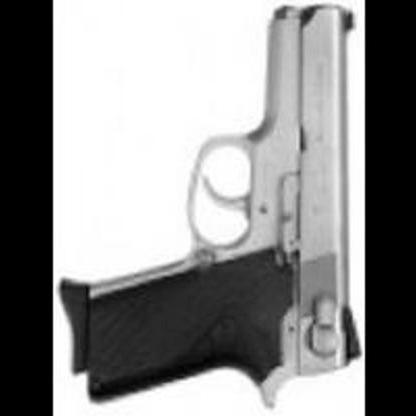weapon: (53, 4, 365, 416)
